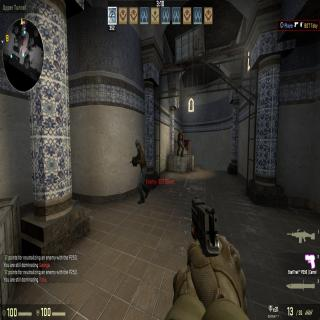T-Body: (134, 138, 147, 203), (177, 130, 184, 156)
T-Head: (135, 138, 141, 151), (179, 128, 182, 134)
